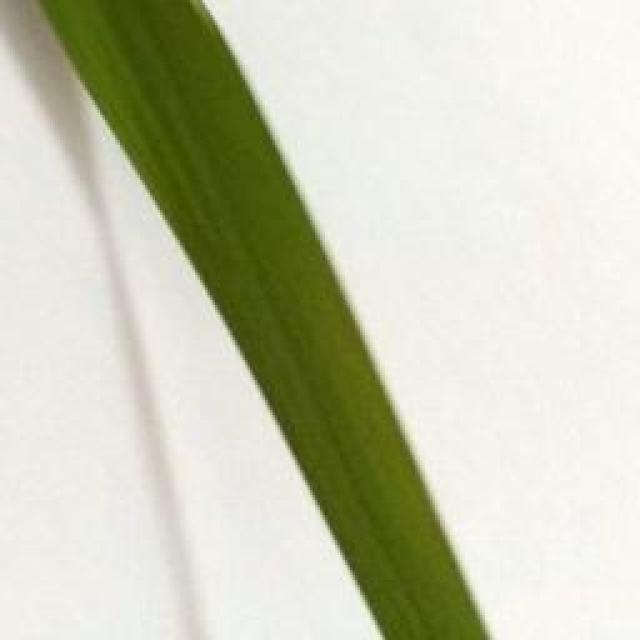Healthy-Plant: (39, 0, 490, 640)
